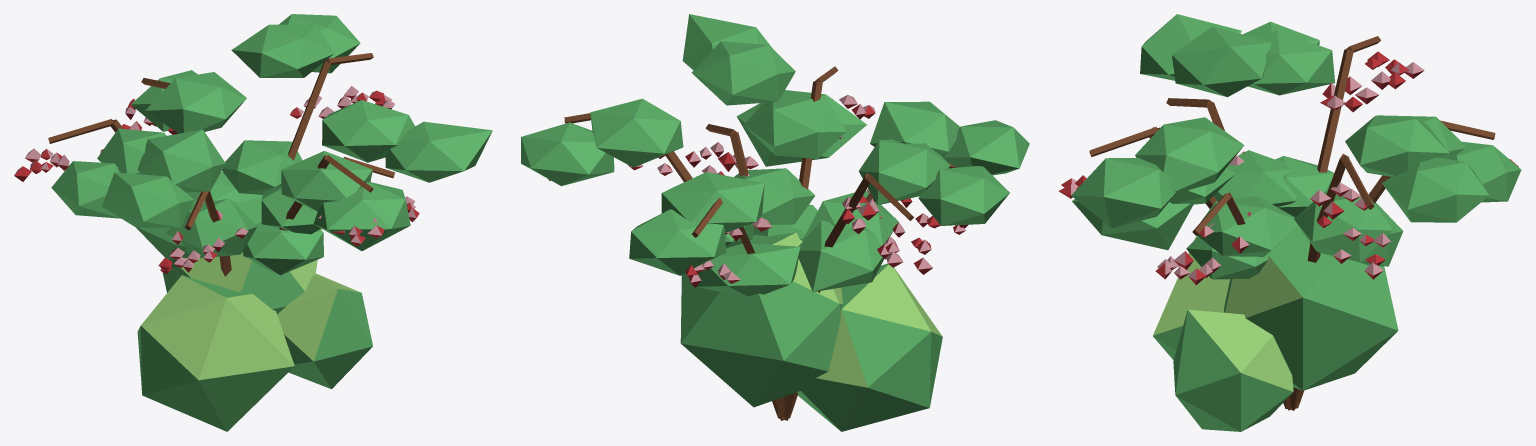
Rendered from poison_berry_bush.glb.
3 renders of one model, left to right at view 1: azimuth 30°, elevation 25°; view 2: azimuth 150°, elevation 25°; view 3: azimuth 270°, elevation 25°, orthographic. The views are drawn at different scales.
Visible parts, largest first — view 1: poison_berry_bush.001; view 2: poison_berry_bush.001; view 3: poison_berry_bush.001.
Boxes of the visible parts, x1=… form: poison_berry_bush.001: x1=14, y1=14, x2=492, y2=431; poison_berry_bush.001: x1=521, y1=14, x2=1029, y2=431; poison_berry_bush.001: x1=1058, y1=14, x2=1521, y2=431.
Bounding box in the file's own units: 1.01 × 0.78 × 0.9516.
